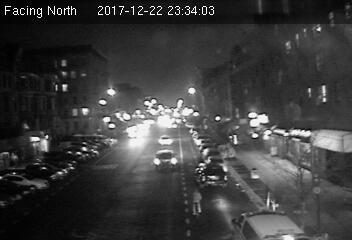car: (195, 161, 229, 188), (153, 149, 178, 171), (157, 135, 173, 145)
police: (228, 212, 314, 240)
